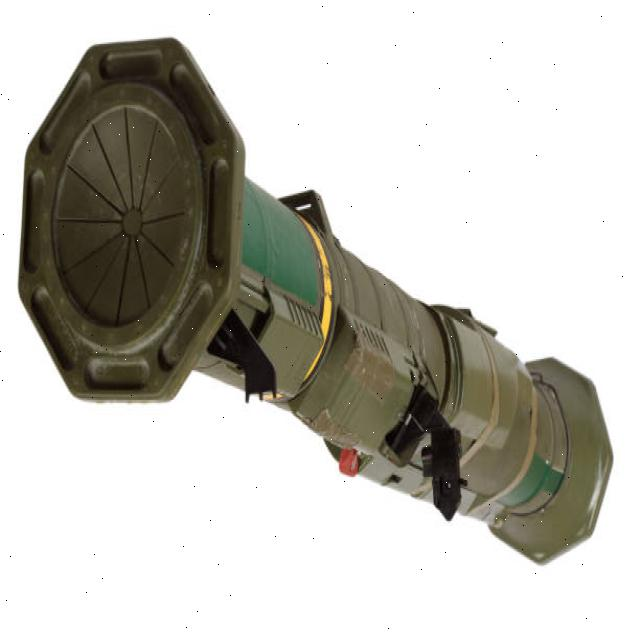bazooka: (4, 16, 621, 586)
